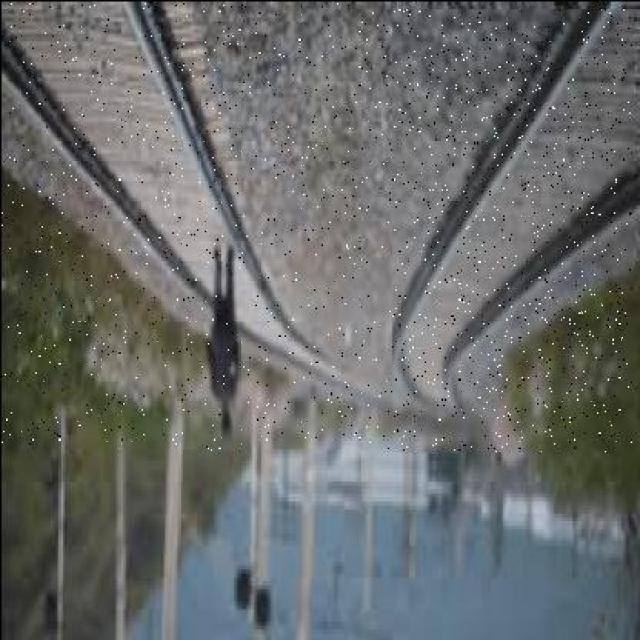danger: (198, 218, 250, 450)
rail: (0, 2, 391, 442), (363, 8, 631, 450)
